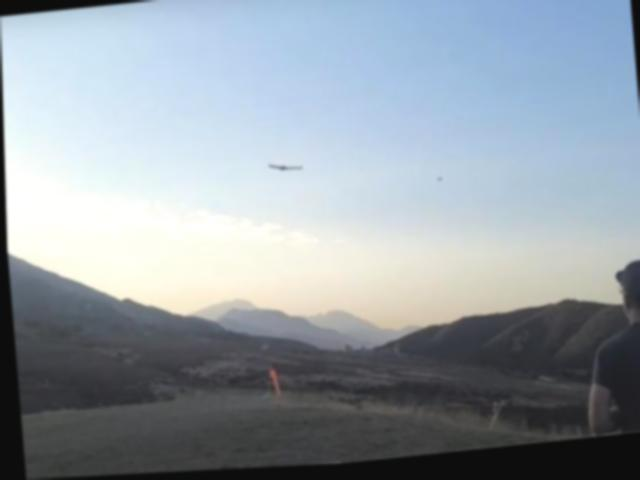iha: (268, 160, 303, 182)
